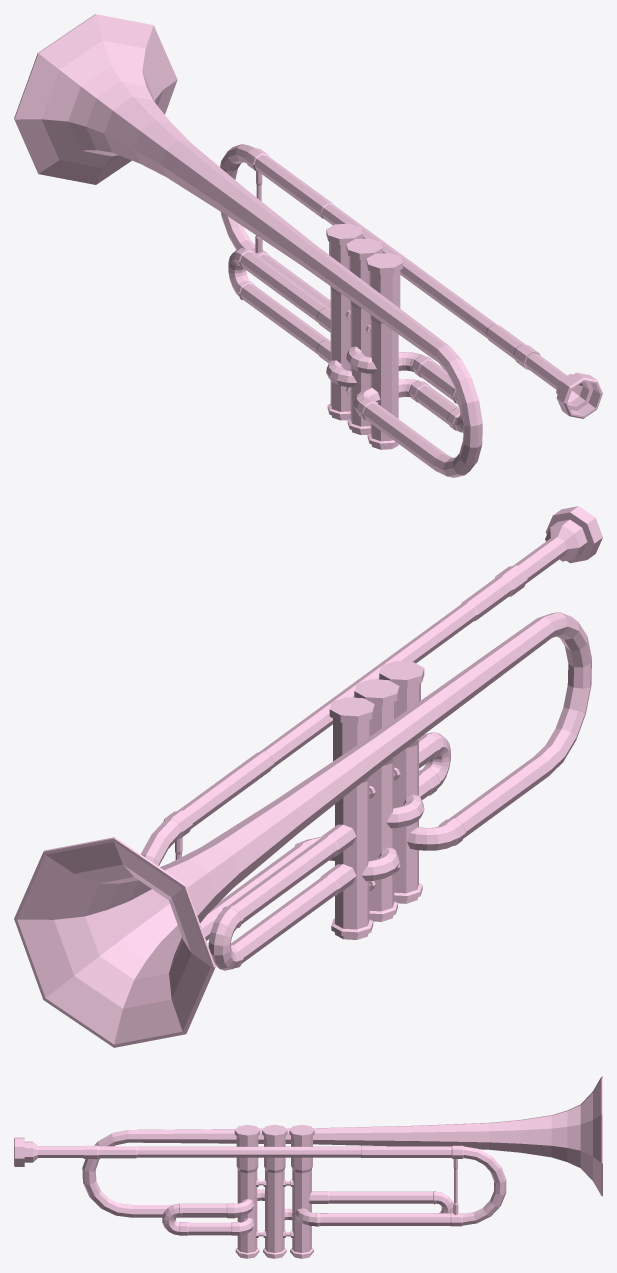
Rendered from Doot.fbx.
The picture shows the model from 3 angles, top to bottom: view 1: azimuth 30°, elevation 25°; view 2: azimuth 150°, elevation 25°; view 3: azimuth 270°, elevation 25°; orthographic projection. The views are drawn at different scales.
Parts seen in each view (by area): view 1: Trumpet; view 2: Trumpet; view 3: Trumpet.
Boxes of the visible parts, <box> form: Trumpet: <box>14,14,602,477</box>; Trumpet: <box>14,506,602,1047</box>; Trumpet: <box>14,1076,602,1258</box>.
Bounding box in the file's own units: 42.71 × 61.48 × 196.
